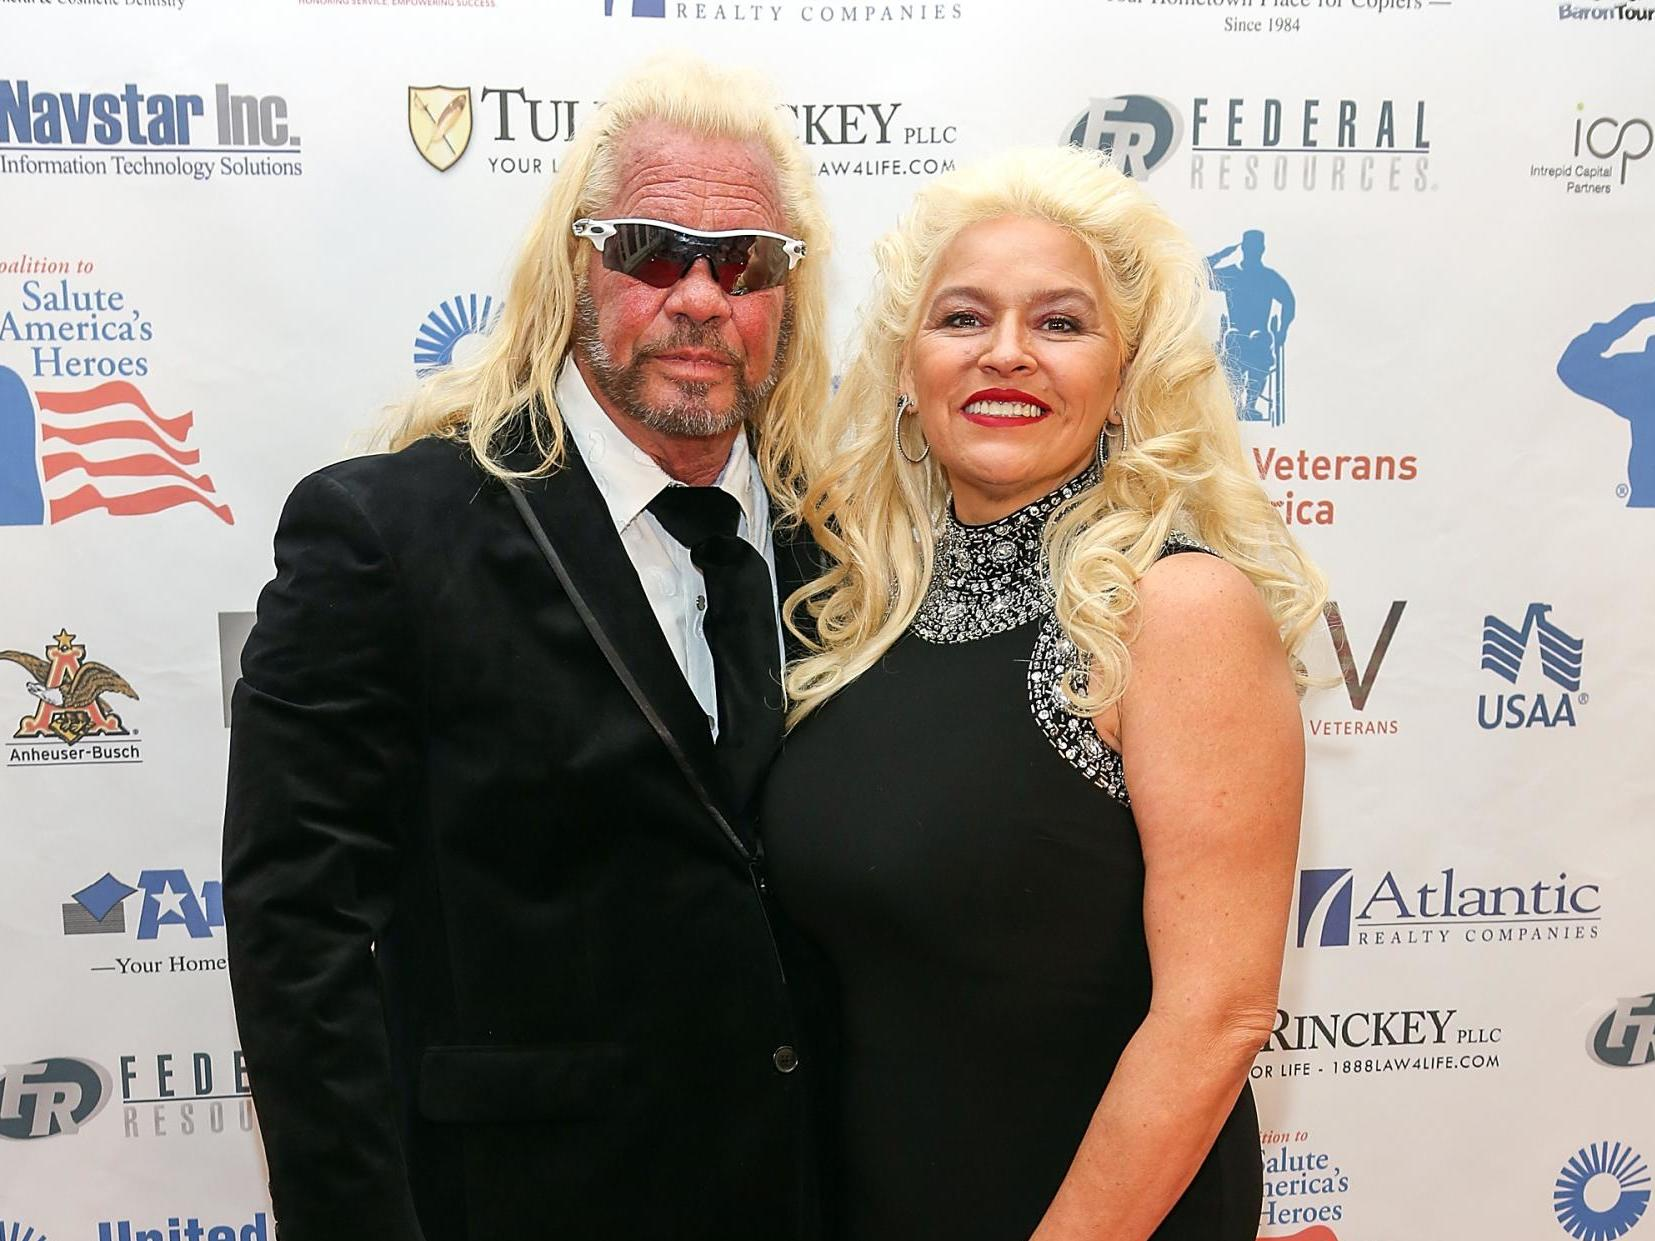person: (215, 50, 829, 1241), (760, 136, 1315, 1241)
